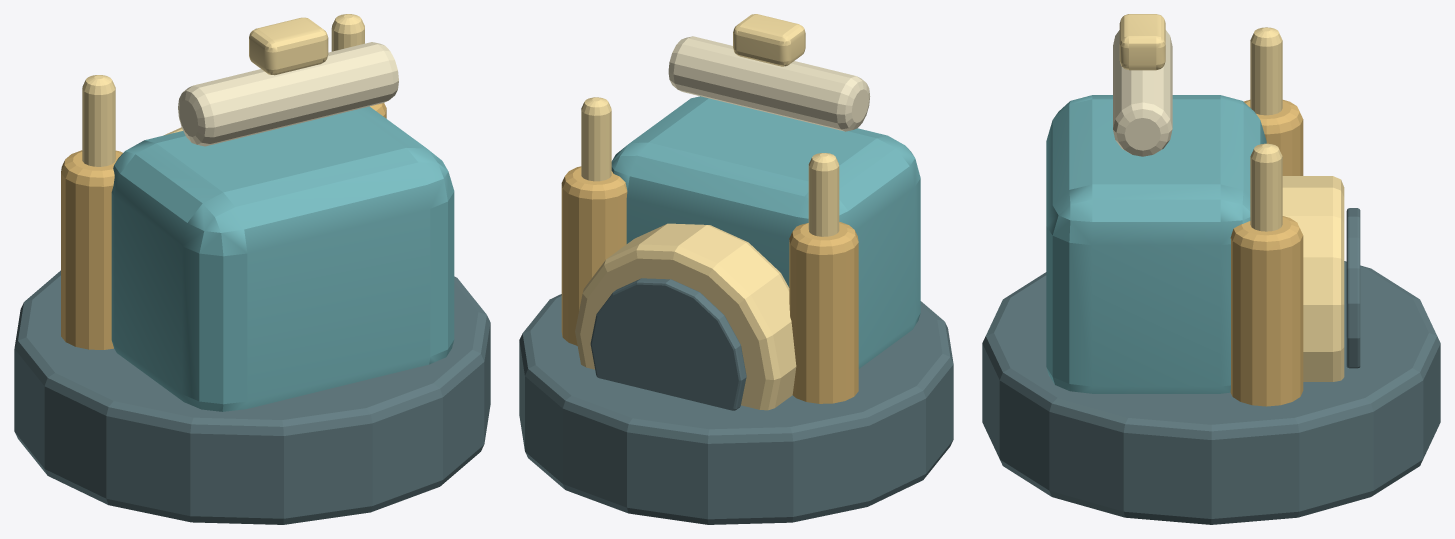
File: generator_ranger.glb
The picture shows the model from 3 angles, left to right: view 1: azimuth 30°, elevation 25°; view 2: azimuth 150°, elevation 25°; view 3: azimuth 270°, elevation 25°; orthographic projection. The views are drawn at different scales.
Parts seen in each view (by area): view 1: Surface_Enamel, Surface_Iron, Surface_Ivory, Surface_Brass, Surface_PolishedRim; view 2: Surface_Iron, Surface_Enamel, Surface_PolishedRim, Surface_Brass, Surface_Ivory; view 3: Surface_Iron, Surface_Enamel, Surface_PolishedRim, Surface_Brass, Surface_Ivory.
Boxes of the visible parts, <box> form: Surface_Enamel: <box>111,106,454,411</box>; Surface_Iron: <box>14,270,490,524</box>; Surface_Ivory: <box>178,42,398,146</box>; Surface_Brass: <box>61,103,386,349</box>; Surface_PolishedRim: <box>82,14,364,166</box>; Surface_Iron: <box>519,278,953,524</box>; Surface_Enamel: <box>611,96,920,368</box>; Surface_PolishedRim: <box>575,14,839,410</box>; Surface_Brass: <box>561,166,858,403</box>; Surface_Ivory: <box>668,36,870,131</box>; Surface_Iron: <box>982,208,1440,524</box>; Surface_Enamel: <box>1046,95,1266,393</box>; Surface_PolishedRim: <box>1119,14,1344,381</box>; Surface_Brass: <box>1230,100,1303,406</box>; Surface_Ivory: <box>1113,30,1172,156</box>.
Bounding box in the file's own units: 1 × 0.98 × 1.
